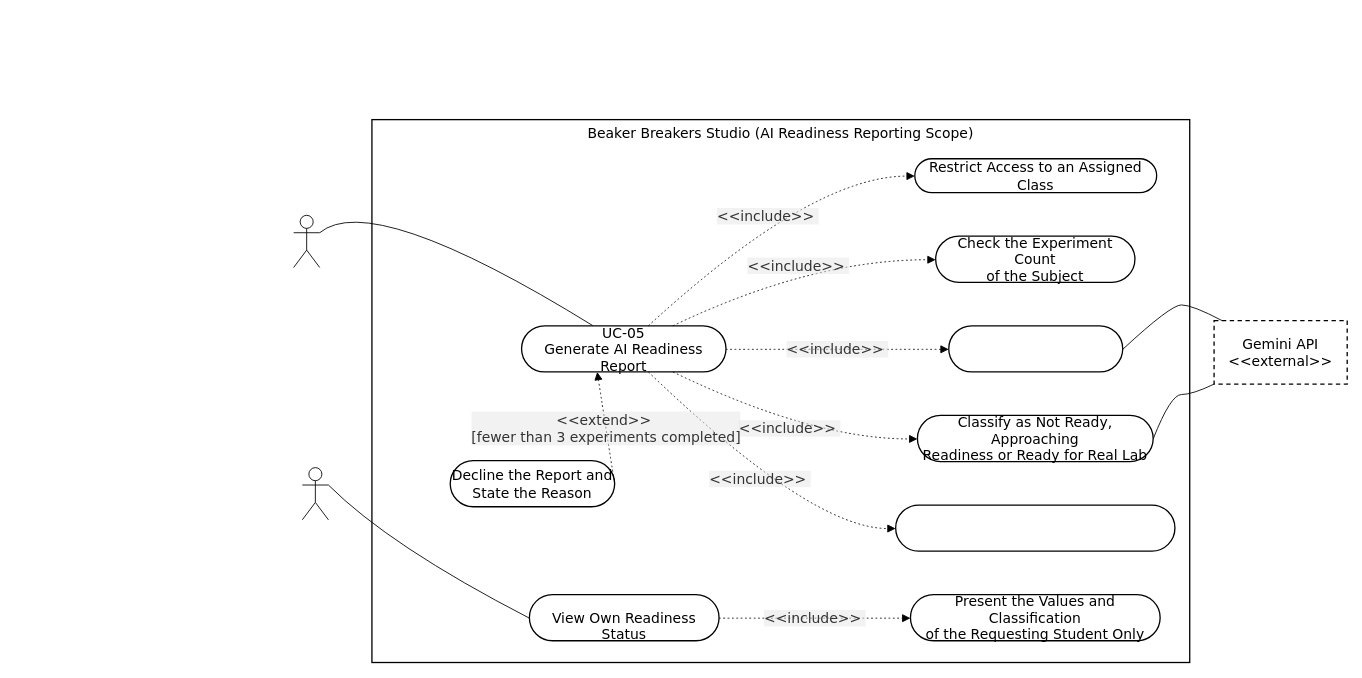
This 1362x678 diagram has some shape labels left out. The shapes that lost their labels are listed below. From the top down, each one's centre as x and y in pixels, then its label:
(x=306, y=241): Teacher
(x=1035, y=348): Compute the Six Performance Dimensions
(x=314, y=493): Student
(x=1035, y=527): Record the Report with Teacher, Student, Values, Classification and Time
